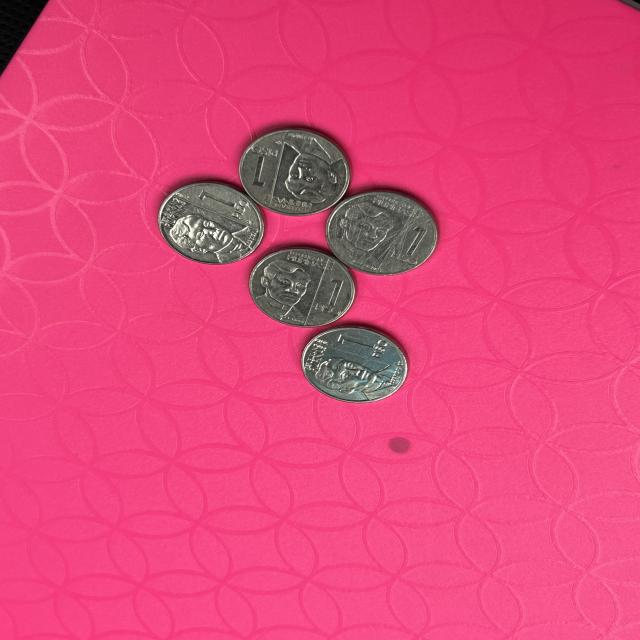1_New_Front: (194, 185, 249, 222), (390, 222, 432, 270), (247, 143, 279, 191), (320, 274, 351, 323), (341, 330, 387, 360)
